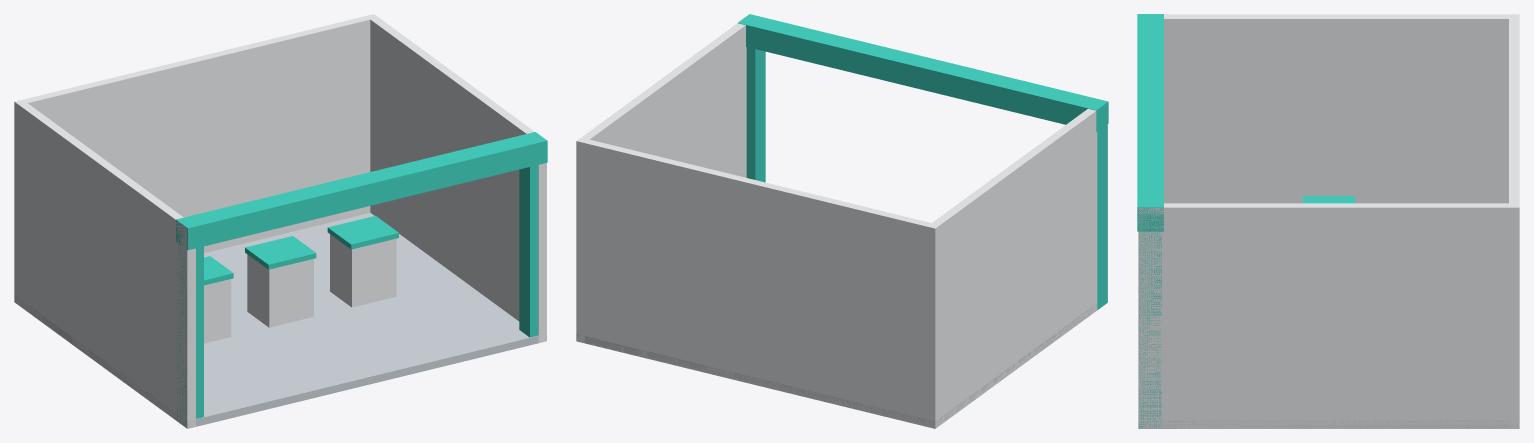
3 renders of one model, left to right at view 1: azimuth 30°, elevation 25°; view 2: azimuth 150°, elevation 25°; view 3: azimuth 270°, elevation 25°, orthographic. The views are drawn at different scales.
Visible parts, largest first — view 1: Exhibition Booth Concept; view 2: Exhibition Booth Concept; view 3: Exhibition Booth Concept.
Part boxes in pixels (x1,y1,x2,y2): Exhibition Booth Concept: [14, 14, 547, 428]; Exhibition Booth Concept: [576, 14, 1108, 428]; Exhibition Booth Concept: [1137, 14, 1519, 428].
Size of the model in its own units: 6 by 3.2 by 5.02.
